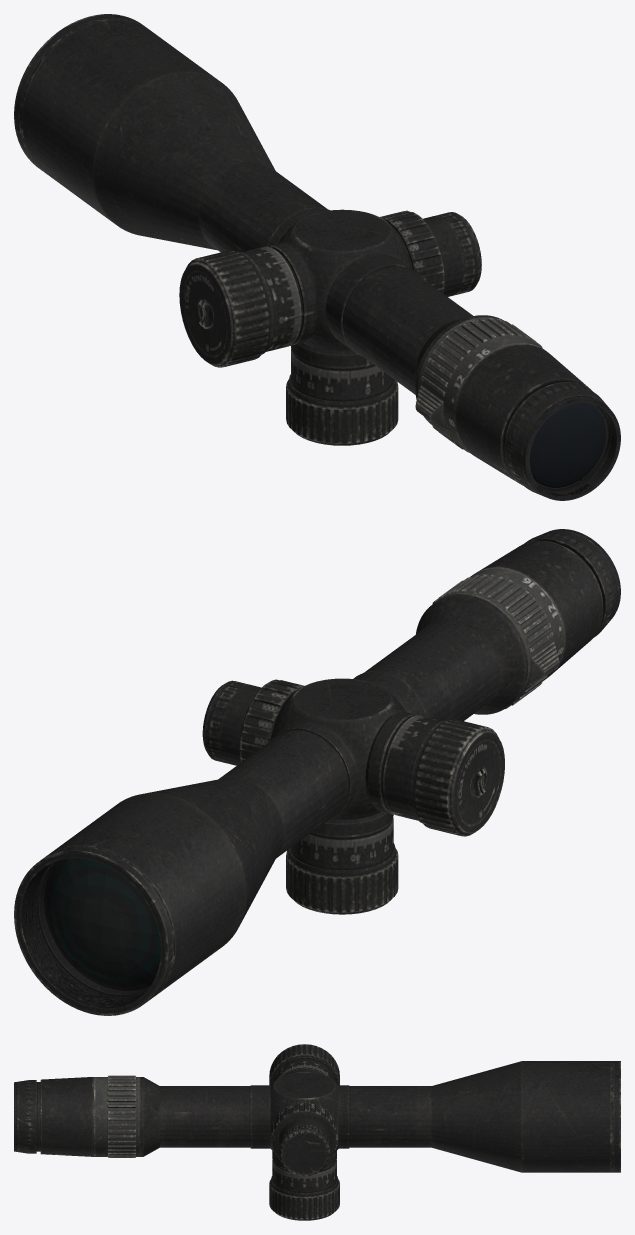
3 views of the same model, one above another, from view 1: azimuth 30°, elevation 25°; view 2: azimuth 150°, elevation 25°; view 3: azimuth 270°, elevation 25° (orthographic). The views are drawn at different scales.
Parts seen in each view (by area): view 1: TW_56ea70acd2720b844b8b4594_PZ_Import; view 2: TW_56ea70acd2720b844b8b4594_PZ_Import; view 3: TW_56ea70acd2720b844b8b4594_PZ_Import.
Boxes of the visible parts, x1,y1,x2,y2 form: TW_56ea70acd2720b844b8b4594_PZ_Import: (14,14,620,500); TW_56ea70acd2720b844b8b4594_PZ_Import: (14,529,620,1015); TW_56ea70acd2720b844b8b4594_PZ_Import: (14,1044,620,1220).
Size of the model in its own units: 0.0604 by 0.1931 by 0.0503.
1 material, 1 textured.
